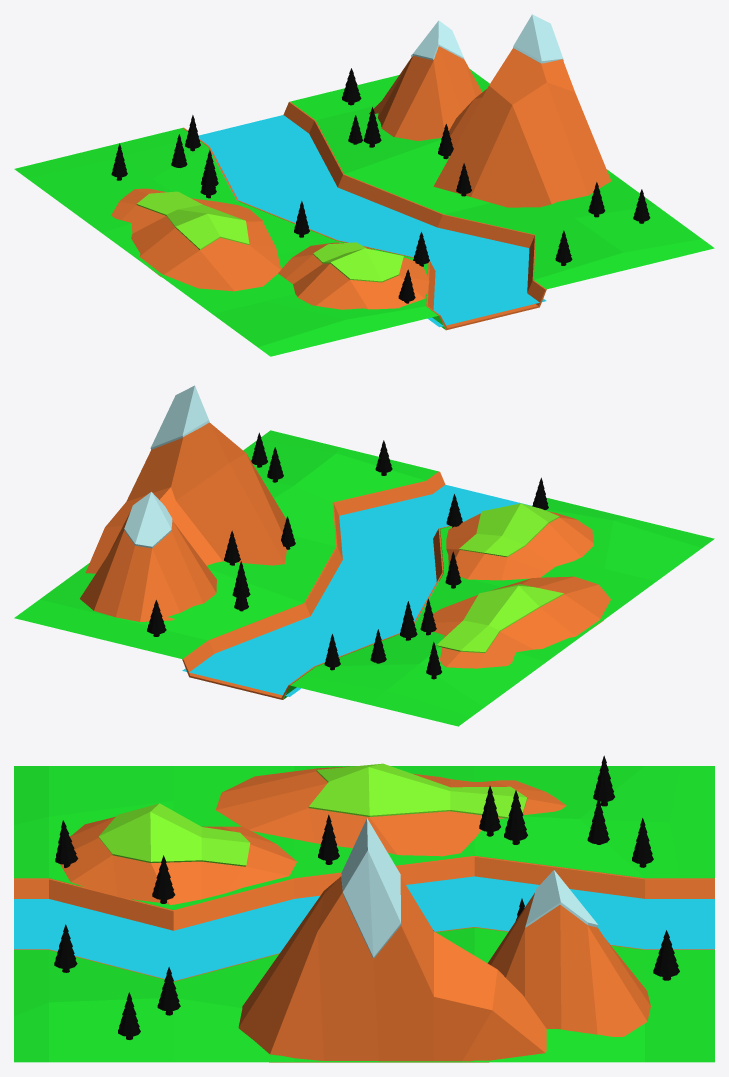
File: Environment_game_Section_01.FBX
3 views of the same model, one above another, from view 1: azimuth 30°, elevation 25°; view 2: azimuth 150°, elevation 25°; view 3: azimuth 270°, elevation 25° (orthographic). The views are drawn at different scales.
Parts seen in each view (by area): view 1: Plane001, Container001, Plane004, Plane002, Plane003, Plane010, Plane006, Plane007, Plane005, Plane008, Plane009; view 2: Plane001, Container001, Plane004, Plane003, Plane002, Plane010, Plane006, Plane007, Plane005, Plane008, Plane009; view 3: Plane001, Plane004, Container001, Plane010, Plane003, Plane002, Plane006, Plane007, Plane005, Plane008, Plane009, Cylinder014 (+11 smaller).
Boxes of the visible parts, x1,y1,x2,y2 form: Plane001: (14, 69, 714, 356); Container001: (198, 115, 546, 327); Plane004: (433, 48, 611, 207); Plane002: (111, 188, 281, 291); Plane003: (369, 46, 482, 140); Plane010: (183, 101, 546, 330); Plane006: (278, 242, 429, 309); Plane007: (136, 191, 249, 249); Plane005: (313, 242, 403, 282); Plane008: (513, 14, 563, 63); Plane009: (411, 20, 464, 60); Plane001: (14, 430, 714, 726); Container001: (182, 484, 531, 696); Plane004: (85, 422, 290, 573); Plane003: (80, 511, 216, 621); Plane002: (420, 576, 610, 668); Plane010: (182, 471, 450, 699); Plane006: (446, 511, 593, 580); Plane007: (436, 584, 563, 652); Plane005: (459, 503, 559, 557); Plane008: (150, 385, 209, 449); Plane009: (124, 492, 172, 548); Plane001: (14, 766, 714, 1062); Plane004: (238, 876, 546, 1062); Container001: (14, 876, 714, 980); Plane010: (14, 856, 714, 981); Plane003: (487, 893, 650, 1036); Plane002: (216, 766, 566, 856); Plane006: (60, 816, 296, 904); Plane007: (308, 763, 527, 818); Plane005: (98, 803, 250, 866); Plane008: (341, 818, 400, 958); Plane009: (525, 870, 598, 927); Cylinder014: (653, 930, 679, 980).
Bounding box in the file's own units: 50 × 18.17 × 50.
